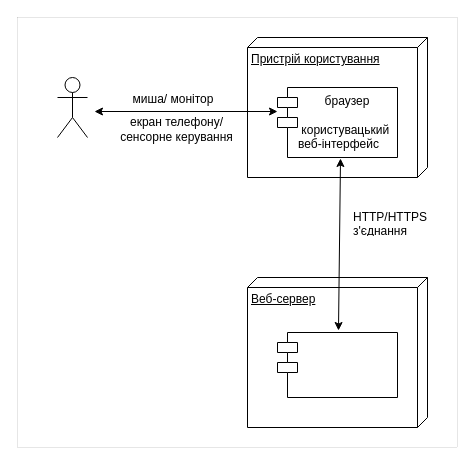
Some shapes in this 474 by 464 pixel diagram are drawn without their labels. Here are the shapes that lost their labels. From the top down, the centre of each, then its label:
point (72, 107): користувач
point (337, 365): файли з даними та ресурсами застосунку
